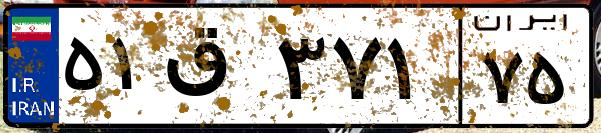1: (385, 28, 445, 110), (110, 28, 158, 98)
3: (270, 28, 330, 110)
5: (57, 26, 110, 100), (525, 38, 570, 115)
7: (330, 28, 385, 110), (475, 38, 525, 113)
ق: (158, 20, 270, 120)
